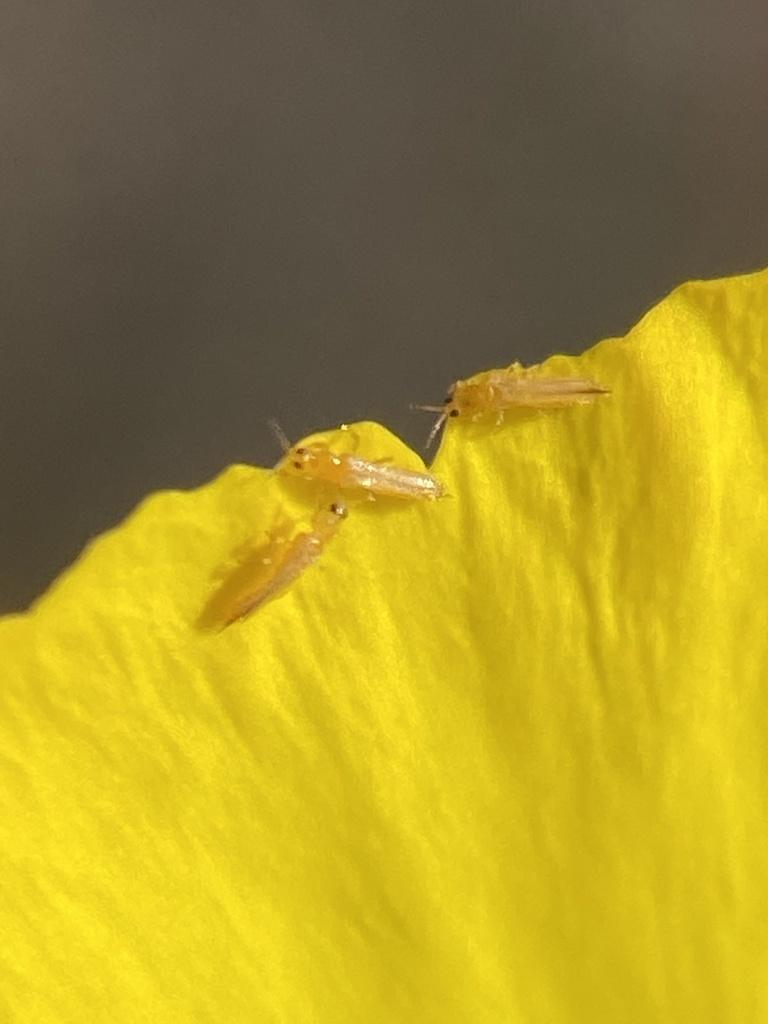tiny_pests: (230, 381, 474, 549), (389, 334, 651, 461), (187, 486, 383, 649)
